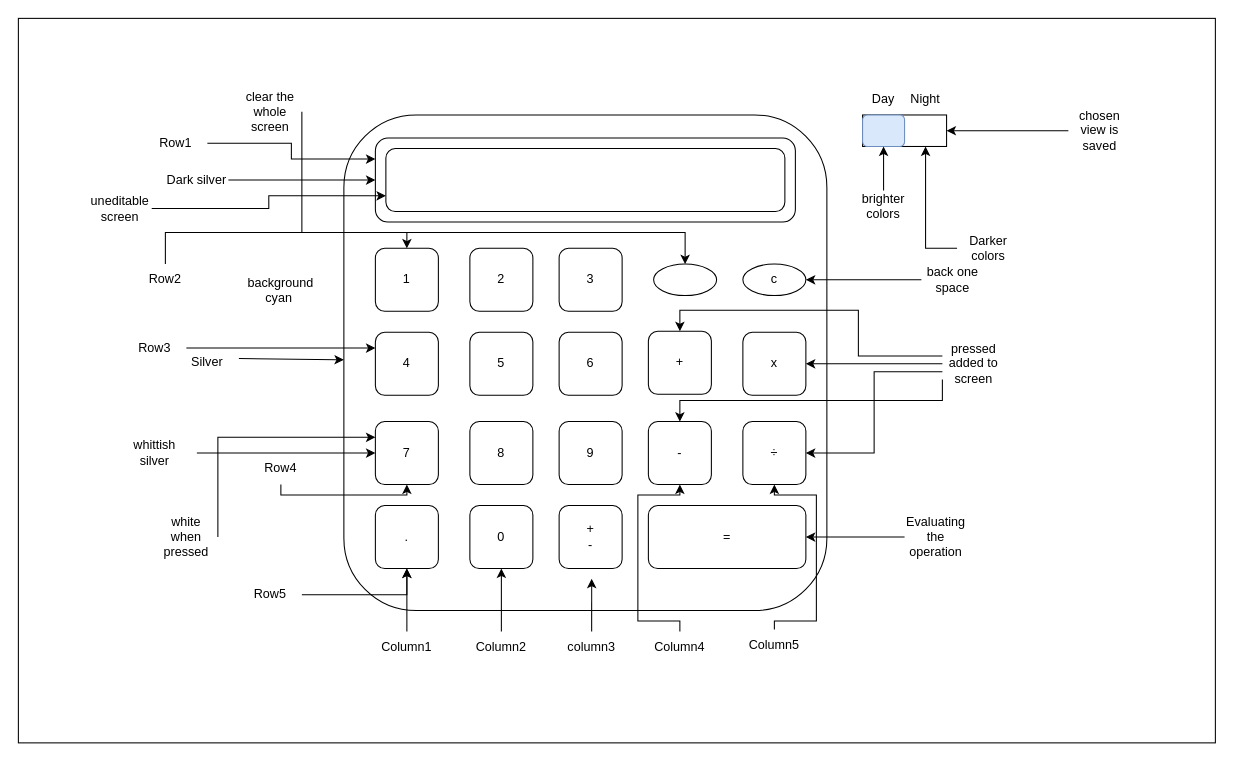
Image size: 1234x761. Some labels were removed from this diagram. Here are the shapes that lost their labels. From the top down, the centre of each, then its label:
At (585,180): "blackish green".
At (685,279): "AC".
